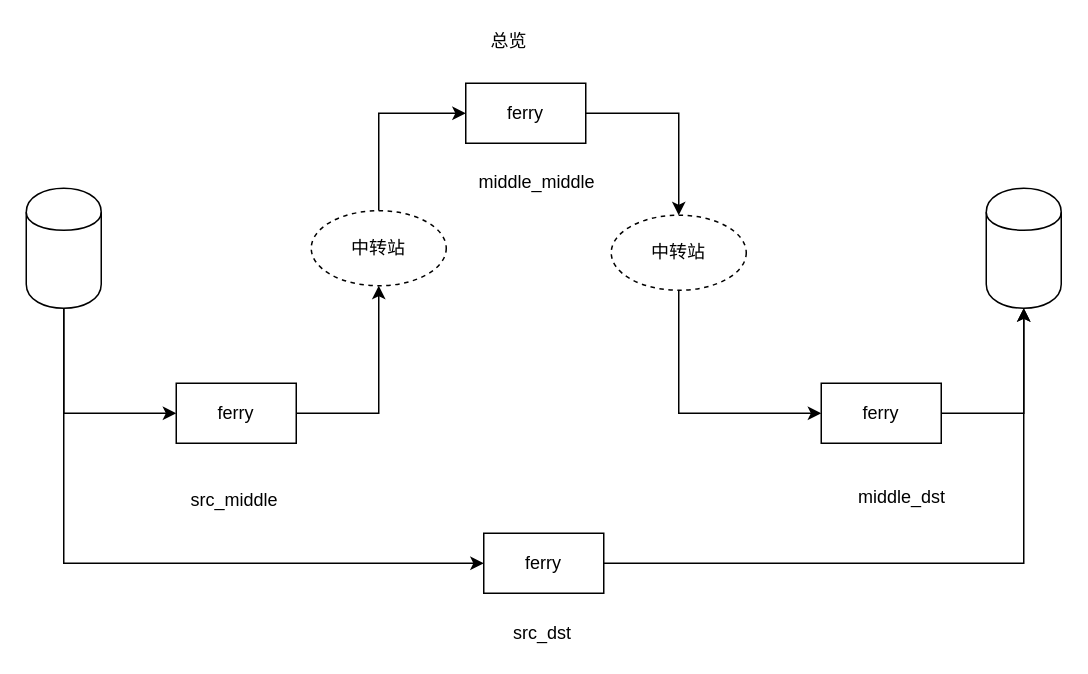
Image size: 1088x674. Some labels were removed from this diagram. The centre of each missing label's shape, as x and y in pixels:
源文件存储: the point at 63,247
目标文件存储: the point at 1023,247
